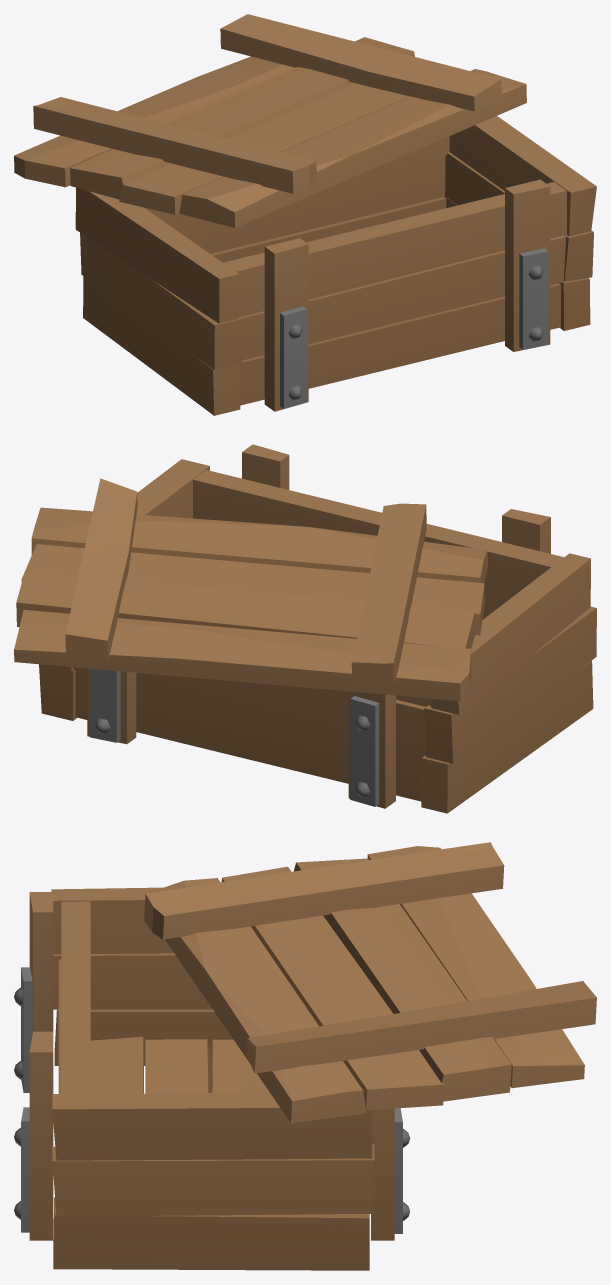
File: Box_Wood_Open_C.fbx
The picture shows the model from 3 angles, top to bottom: view 1: azimuth 30°, elevation 25°; view 2: azimuth 150°, elevation 25°; view 3: azimuth 270°, elevation 25°; orthographic projection. The views are drawn at different scales.
Visible parts, largest first — view 1: Box_Wood_Open_C; view 2: Box_Wood_Open_C; view 3: Box_Wood_Open_C.
Boxes of the visible parts, left/top/right/bottom form: Box_Wood_Open_C: left=14, top=14, right=596, bottom=415; Box_Wood_Open_C: left=14, top=444, right=596, bottom=813; Box_Wood_Open_C: left=14, top=842, right=596, bottom=1270.
Size of the model in its own units: 150 by 60.2 by 141.
